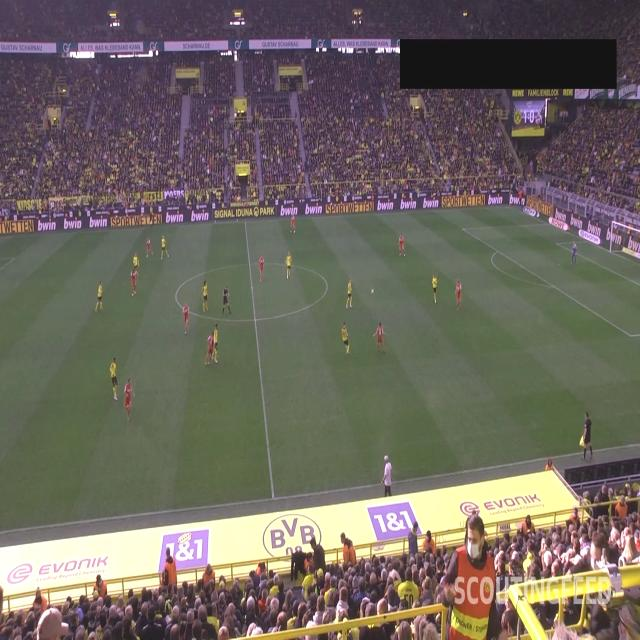ball: (366, 282, 380, 304)
f_player: (374, 313, 391, 363), (105, 346, 118, 406), (123, 376, 135, 431), (339, 320, 354, 364), (212, 320, 224, 374), (156, 231, 172, 271), (453, 274, 465, 326), (393, 230, 409, 268), (94, 278, 108, 320), (567, 233, 579, 280), (179, 302, 193, 342), (280, 248, 294, 284), (343, 276, 355, 316), (203, 329, 215, 366), (128, 266, 140, 302), (255, 253, 267, 288), (286, 211, 300, 241), (428, 272, 439, 306), (200, 276, 208, 318), (131, 253, 143, 280), (143, 236, 153, 261)
umpire: (580, 407, 598, 462), (220, 281, 236, 327)
